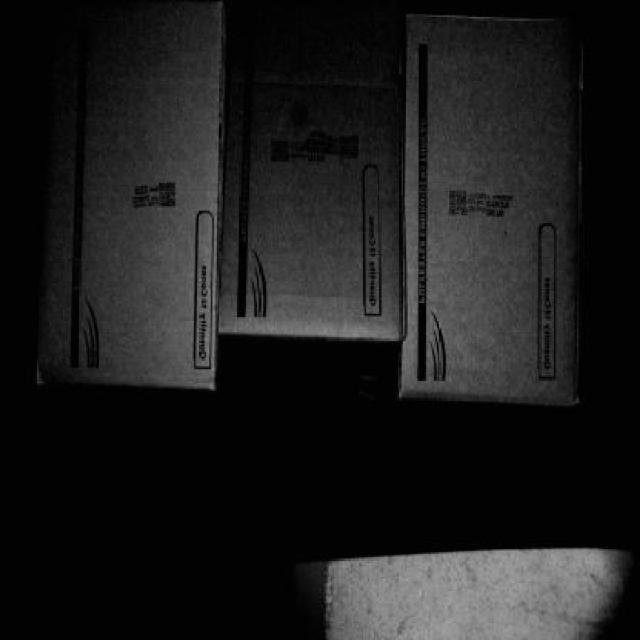cardboxes: (37, 5, 209, 389), (405, 20, 580, 397), (217, 6, 395, 339)
